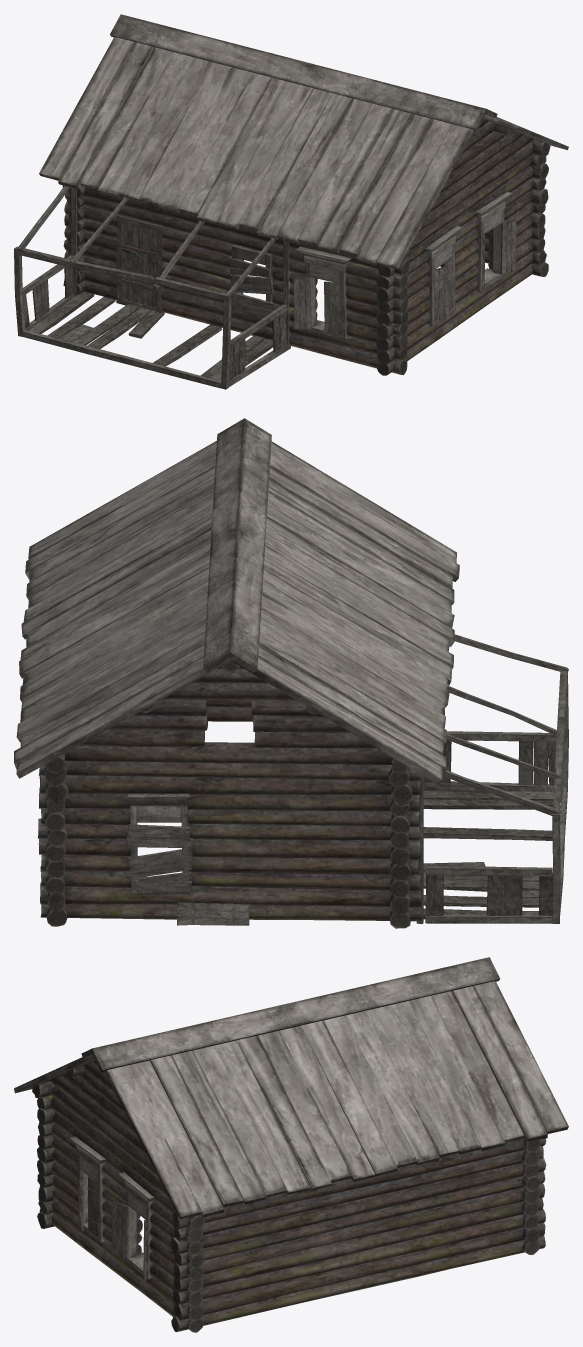
File: house.glb
The picture shows the model from 3 angles, top to bottom: view 1: azimuth 30°, elevation 25°; view 2: azimuth 150°, elevation 25°; view 3: azimuth 270°, elevation 25°; orthographic projection. The views are drawn at different scales.
Parts seen in each view (by area): view 1: Cube.004_Other_0, Cylinder.034_Corpus_0, Cube.020_Input_0; view 2: Cube.004_Other_0, Cylinder.034_Corpus_0, Cube.020_Input_0; view 3: Cube.004_Other_0, Cylinder.034_Corpus_0.
Part boxes in pixels (x1,y1,x2,y2): Cube.004_Other_0: (39,14,568,339); Cylinder.034_Corpus_0: (62,119,550,375); Cube.020_Input_0: (14,186,290,389); Cube.004_Other_0: (14,418,459,925); Cylinder.034_Corpus_0: (38,666,421,928); Cube.020_Input_0: (416,634,568,923); Cube.004_Other_0: (14,957,568,1280); Cylinder.034_Corpus_0: (32,1061,546,1332).
Size of the model in its own units: 11.4 by 5.04 by 10.76.
Materials: 3 (3 with a texture image).
